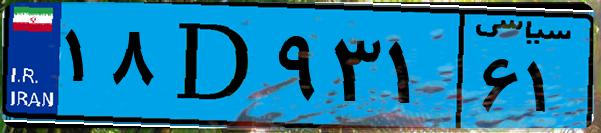1: (385, 28, 445, 110), (57, 26, 110, 100), (525, 38, 570, 115)
3: (330, 28, 385, 110)
6: (475, 38, 525, 113)
8: (110, 28, 158, 98)
9: (270, 28, 330, 110)
D: (158, 12, 270, 120)
